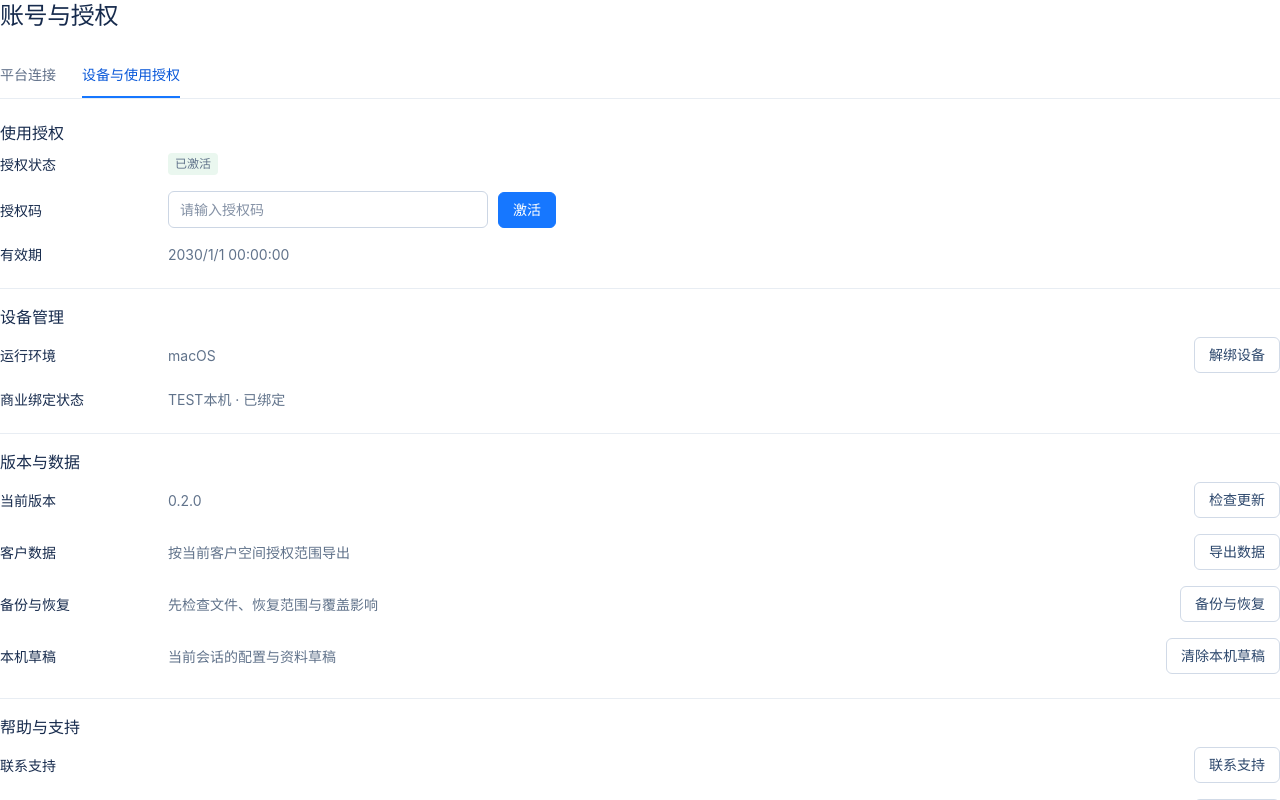
P18 available management contracts › shows verified license and requires impact confirmation before unbinding
Expected: the text "已激活" is shown, [168,153,218,175]
Click the button "解绑设备" at (1237, 355), box [1194,337,1279,373]
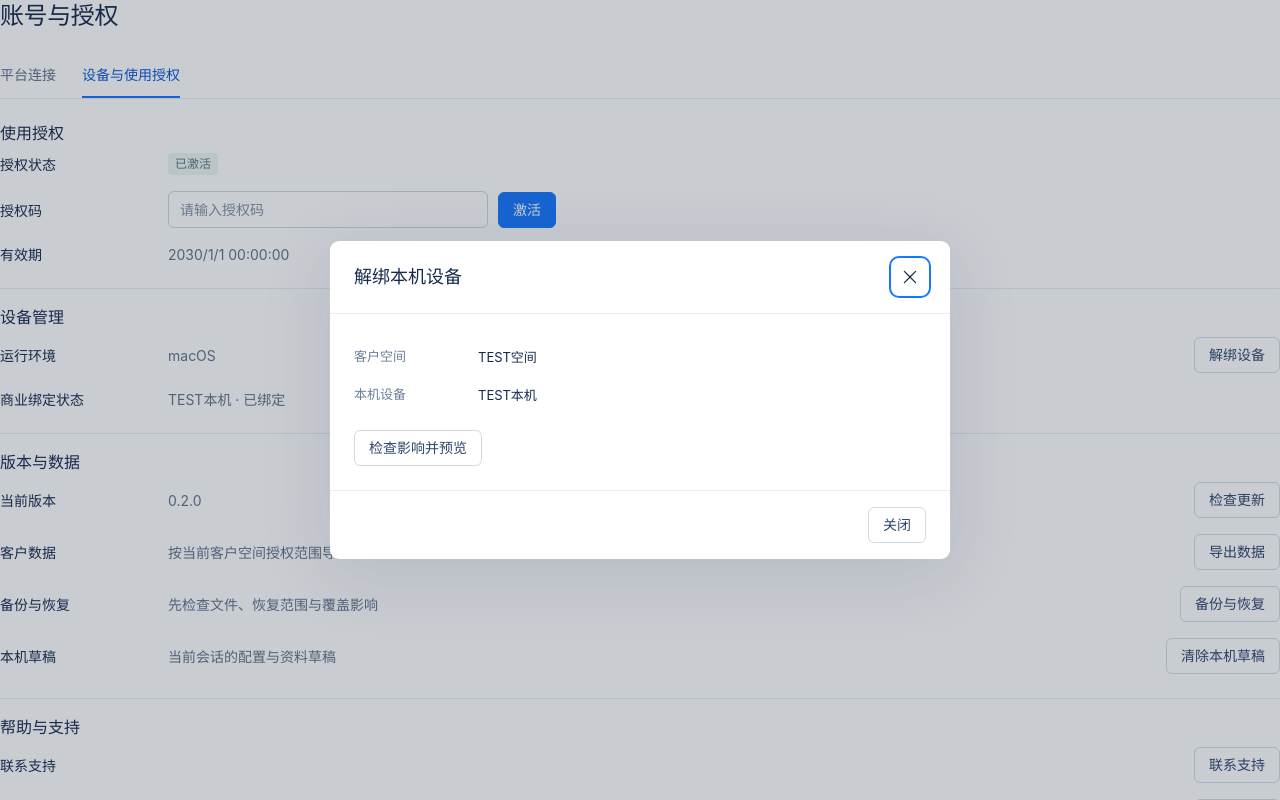
Click the button "检查影响并预览" at (418, 448), box [354,430,482,466]
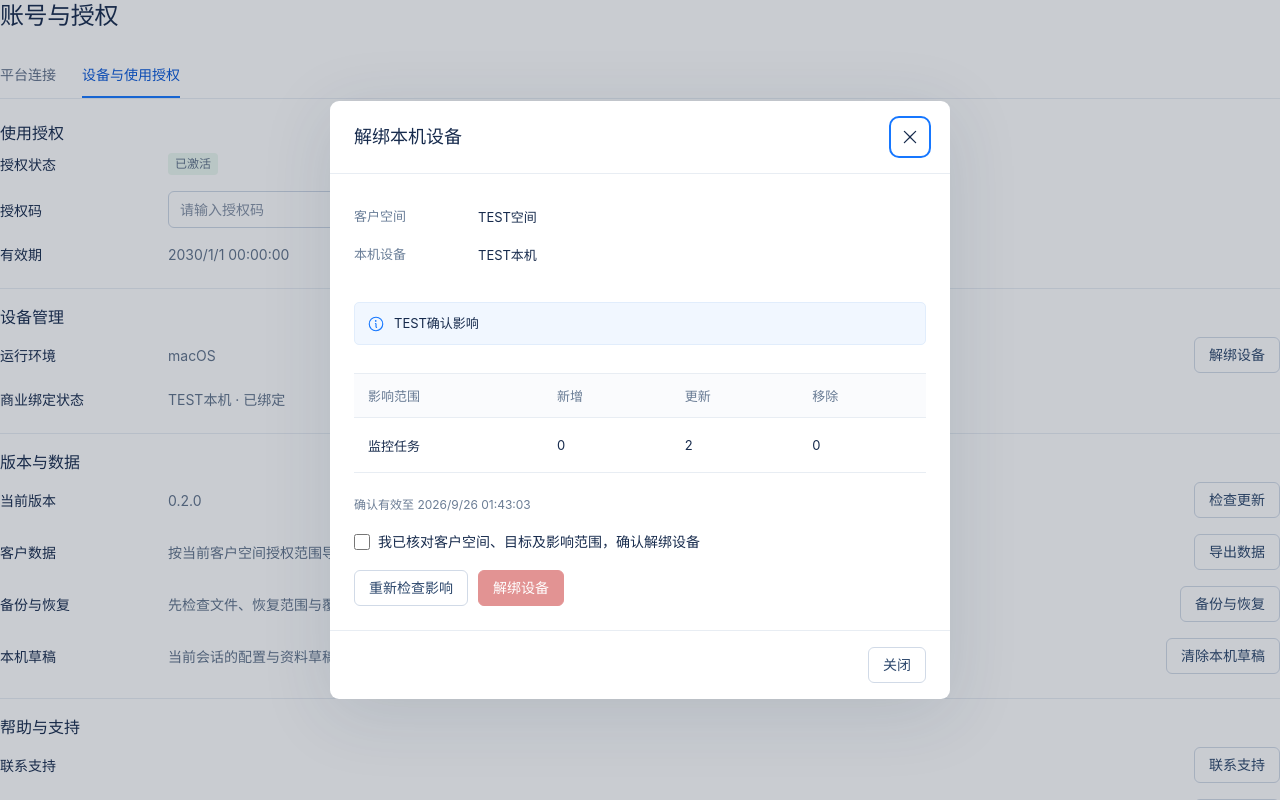
Expected: the text "TEST确认影响" is shown, [394,315,479,331]
Expected: the button "解绑设备" is disabled, [478,570,564,606]
Click the checkbox at (362, 542), box [354,534,370,550]
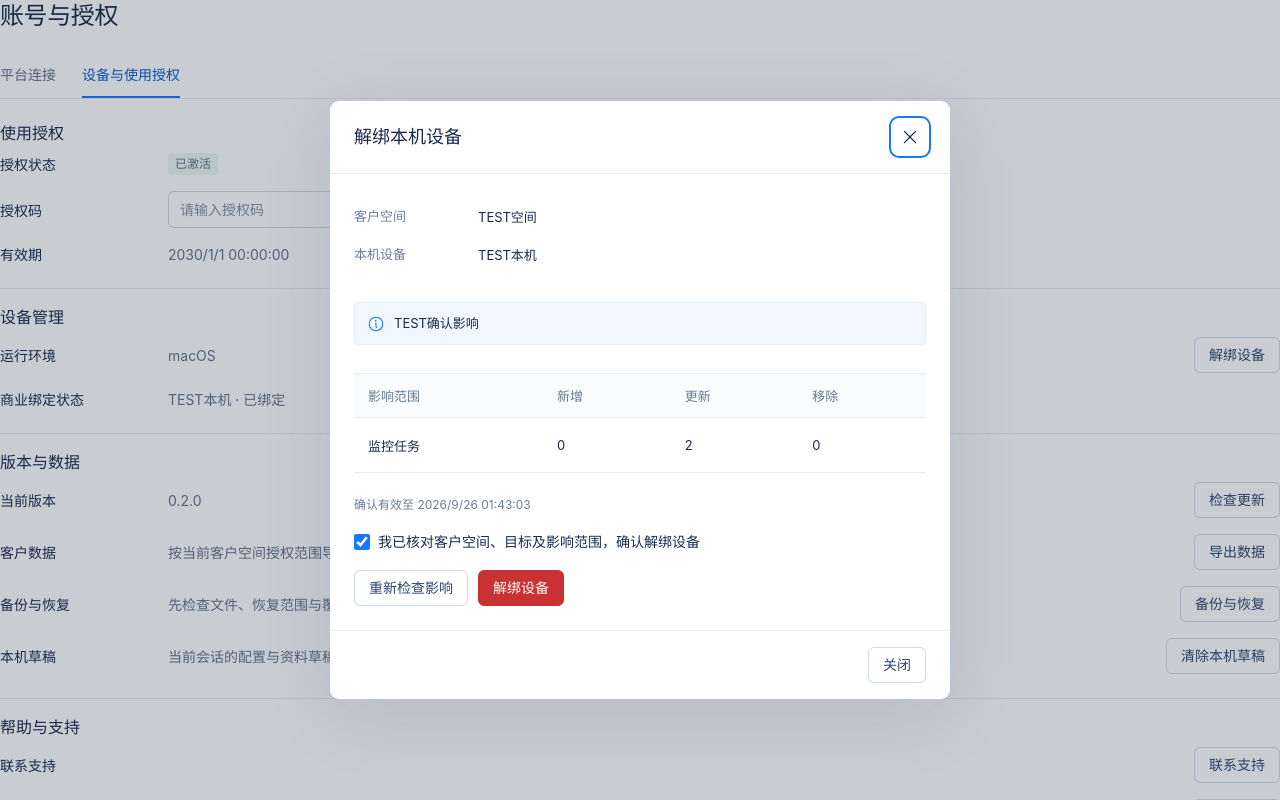
Click the button "解绑设备" at (521, 588), box [478,570,564,606]
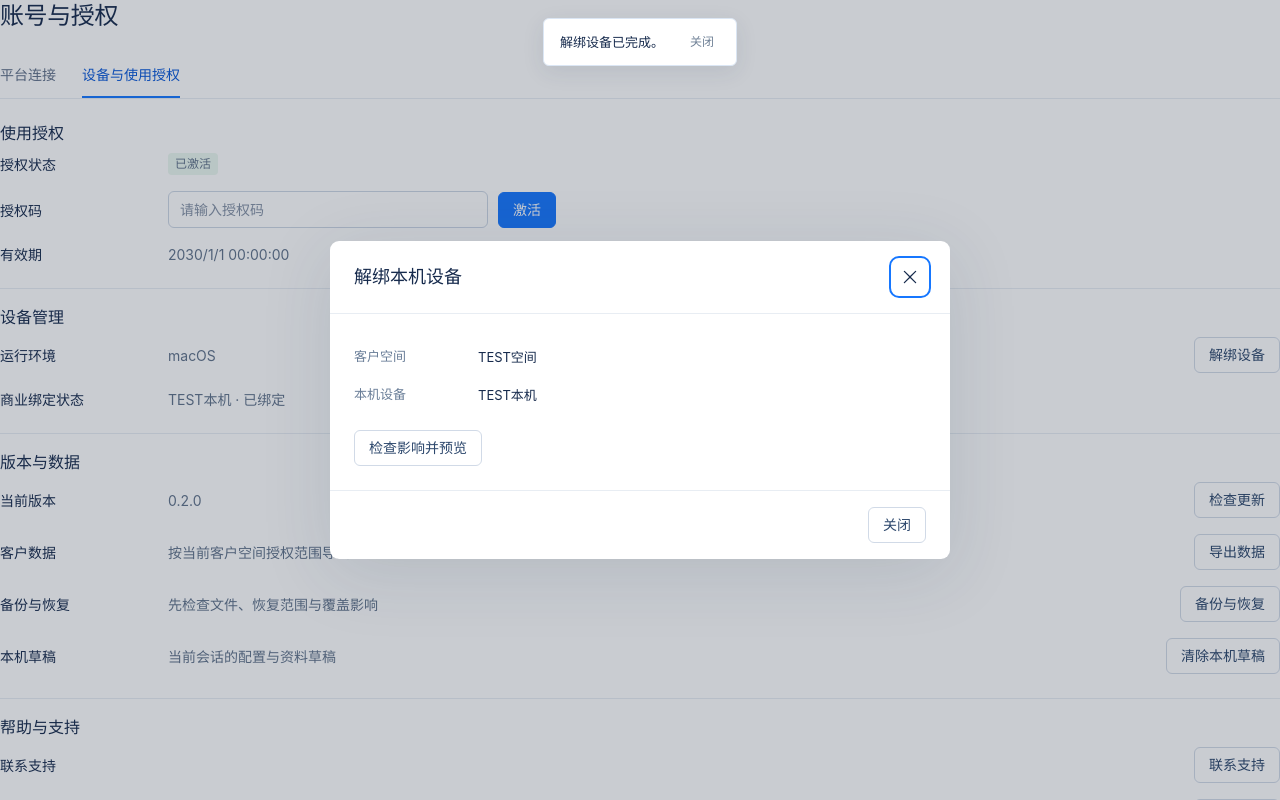
Expected: the text "解绑设备已完成。" is shown, [560,34,664,50]
